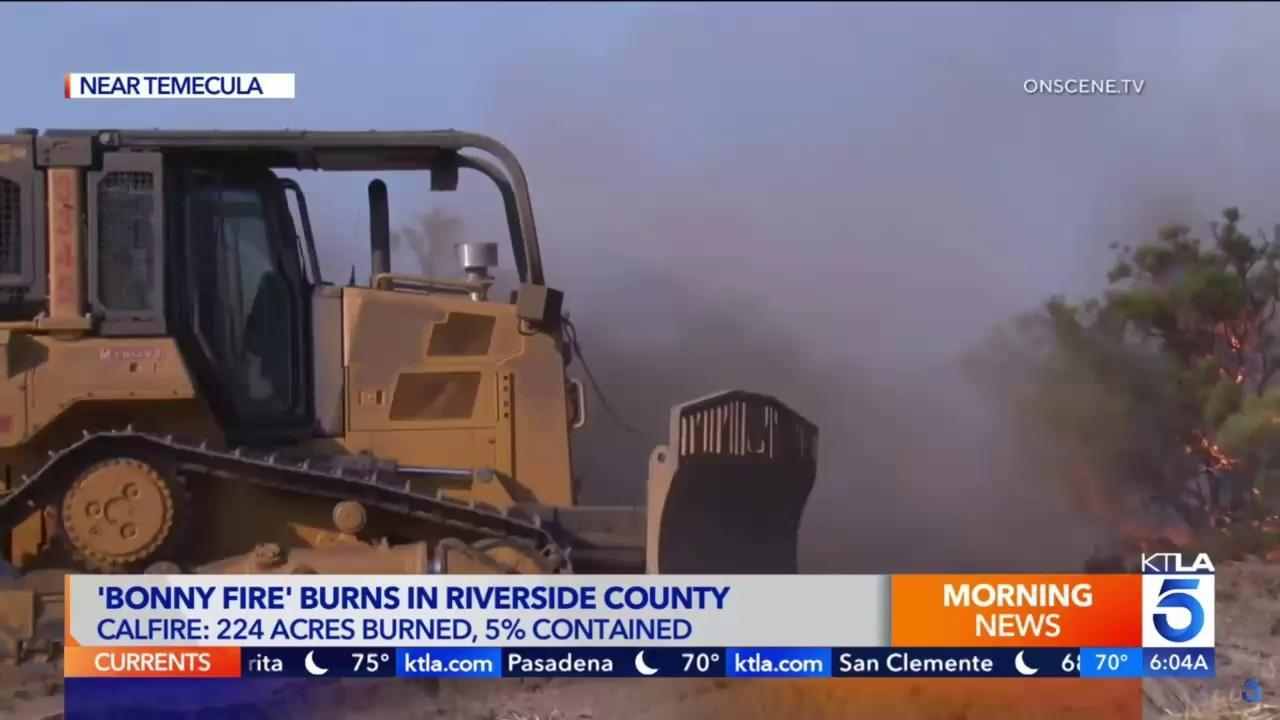fire: (1045, 444, 1200, 567), (1207, 304, 1252, 385), (1181, 429, 1241, 475), (1203, 502, 1235, 536), (1246, 513, 1280, 534), (1263, 545, 1280, 565), (1251, 487, 1263, 497)
smoke: (479, 0, 1210, 571)
